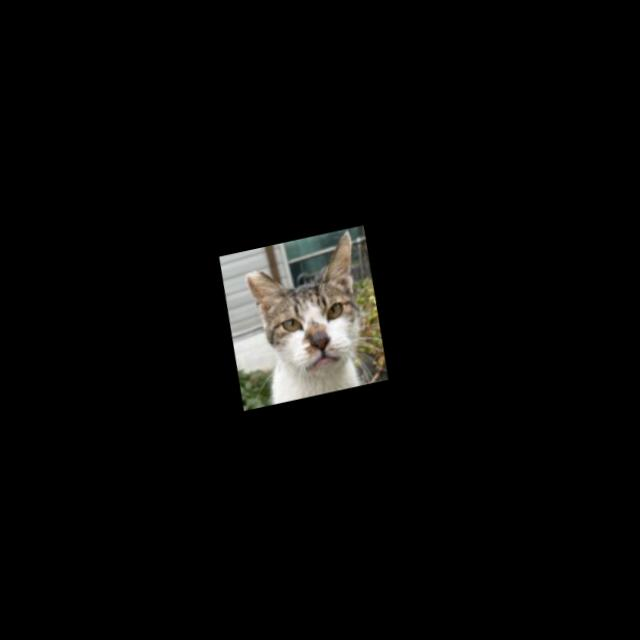animals: (234, 228, 386, 393)
